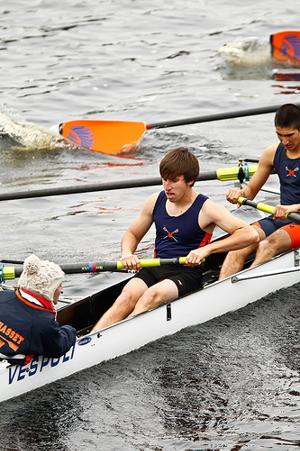person: (88, 146, 259, 334)
